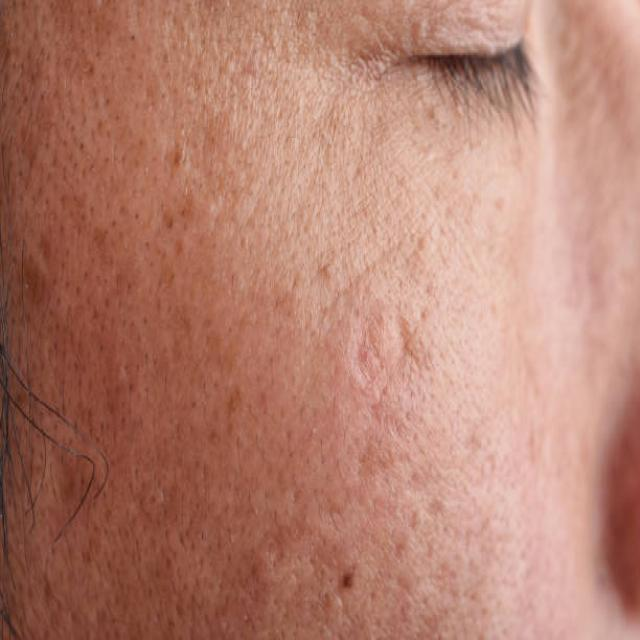Dry-Skin: (80, 124, 532, 640)
